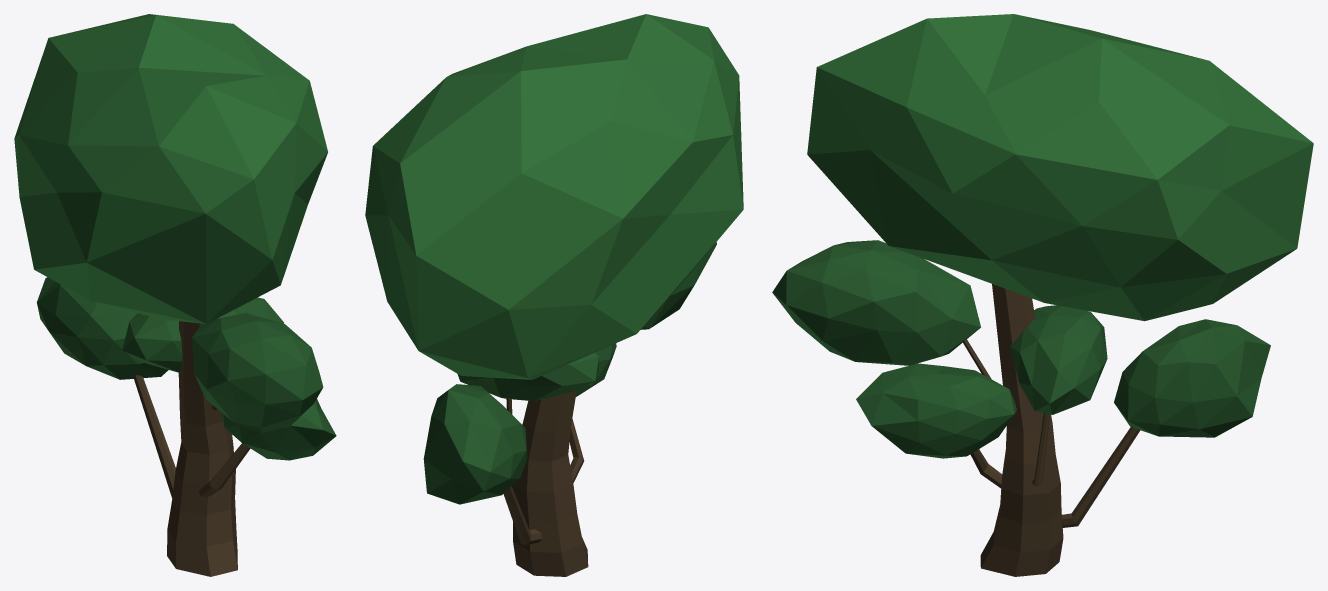
Rendered from tree_moody_short.glb.
The picture shows the model from 3 angles, left to right: view 1: azimuth 30°, elevation 25°; view 2: azimuth 150°, elevation 25°; view 3: azimuth 270°, elevation 25°; orthographic projection.
Parts seen in each view (by area): view 1: LeafLobe.001, LeafLobe.004, Trunk, LeafLobe.002, LeafLobe.003, LeafLobe.005, Branch.001, Branch.002; view 2: LeafLobe.001, LeafLobe.002, Trunk, LeafLobe.005, LeafLobe.004, Branch.001, LeafLobe.003, Branch.002; view 3: LeafLobe.001, LeafLobe.004, LeafLobe.002, Trunk, LeafLobe.003, LeafLobe.005, Branch.001.
Boxes of the visible parts, box(x1,y1,x2,y2) form: LeafLobe.001: box(14, 14, 327, 323); LeafLobe.004: box(192, 313, 323, 427); Trunk: box(167, 318, 237, 576); LeafLobe.002: box(36, 277, 168, 379); LeafLobe.003: box(221, 399, 336, 460); LeafLobe.005: box(122, 297, 283, 372); Branch.001: box(133, 375, 175, 498); Branch.002: box(199, 443, 250, 497); LeafLobe.001: box(365, 14, 743, 379); LeafLobe.002: box(423, 384, 527, 504); Trunk: box(512, 390, 588, 576); LeafLobe.005: box(457, 352, 598, 401); LeafLobe.004: box(641, 242, 716, 329); Branch.001: box(503, 486, 542, 545); LeafLobe.003: box(576, 343, 616, 396); Branch.002: box(569, 419, 584, 482); LeafLobe.001: box(807, 14, 1313, 321); LeafLobe.004: box(772, 240, 980, 365); LeafLobe.002: box(1114, 319, 1270, 437); Trunk: box(980, 284, 1063, 576); LeafLobe.003: box(856, 363, 1016, 458); LeafLobe.005: box(1010, 305, 1107, 414); Branch.001: box(1061, 427, 1140, 527).
Size of the model in its own units: 13.87 by 26.05 by 24.52.
